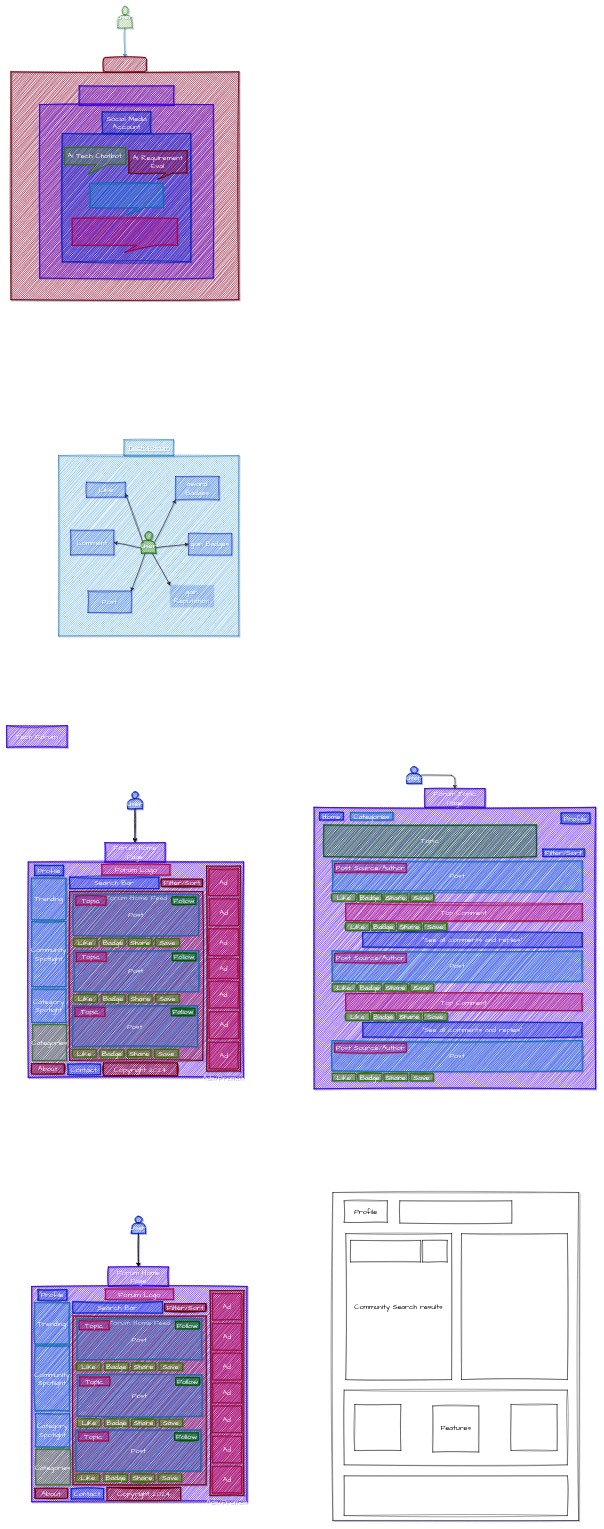
Some shapes in this 604 by 1529 pixel diagram are drawn without their labels. Each missing label, with the centre of its shape:
Ai Tech Recommendations: the point at 126,199
App: the point at 125,64
Communities A-Z: the point at 514,1306
F/S: the point at 434,1251
Interact with Forums (Posting/Commenting/Liking): the point at 125,235
Search: the point at 385,1251
Site Logo: the point at 455,1211
Tech Forum (Reading Only): the point at 126,95
